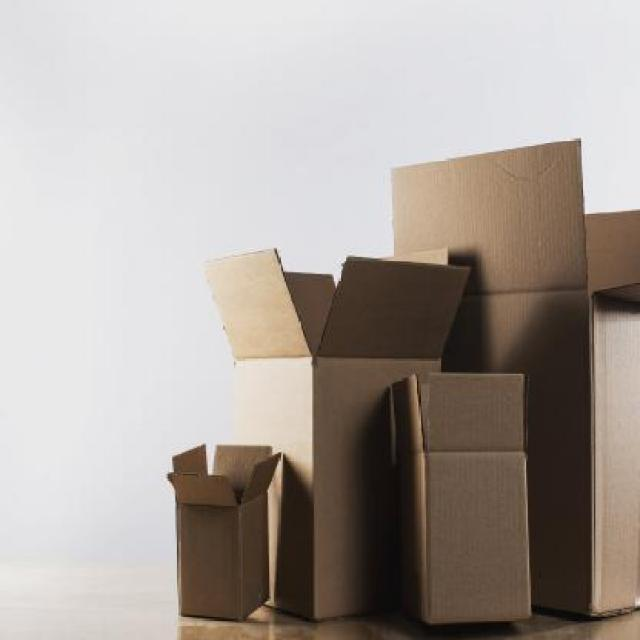box: (390, 138, 640, 614), (210, 248, 462, 616), (392, 367, 532, 627), (168, 441, 272, 627)
